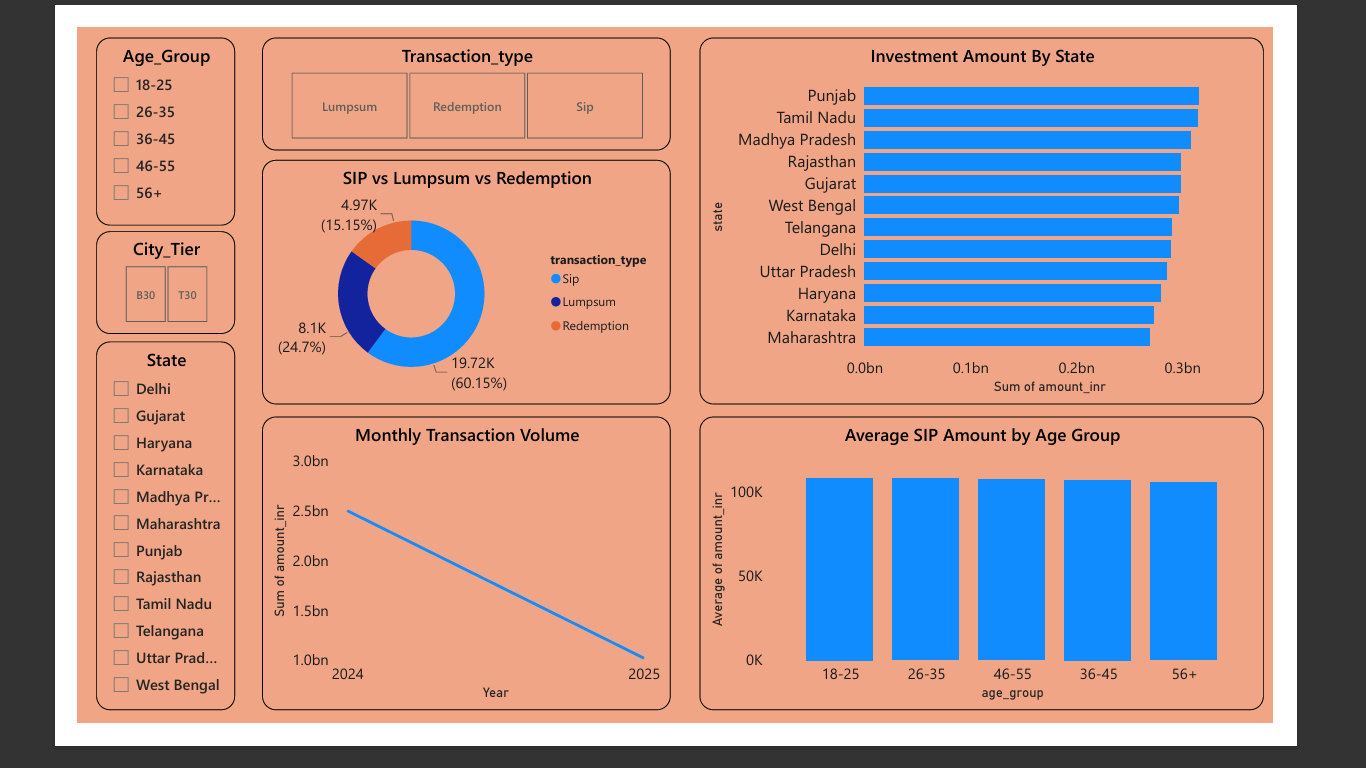

Layout of this report page (visuals, bound fields, positions):
{"tool":"powerbi","page":{"name":"Investor Analytics","canvas":[1290,750],"ordinal":2},"visuals":[{"type":"clusteredBarChart","title":"Investment Amount By State","fields":{"Category":["08_transactions_clean.state"],"Y":["Sum(08_transactions_clean.amount_inr)"]},"box":[671.4,11.4,608.6,395.7],"z":0},{"type":"donutChart","title":"SIP vs Lumpsum vs Redemption","fields":{"Category":["08_transactions_clean.transaction_type"],"Y":["CountNonNull(08_transactions_clean.transaction_type)"]},"box":[198.6,142.9,441.4,264.3],"z":1000},{"type":"clusteredColumnChart","title":"Average SIP Amount by Age Group","fields":{"Category":["08_transactions_clean.age_group"],"Y":["Avg(08_transactions_clean.amount_inr)"]},"box":[671.4,420,608.6,317.1],"z":2000},{"type":"lineChart","title":"Monthly Transaction Volume","fields":{"Category":["08_transactions_clean.transaction_date.Variation.Date Hierarchy.Year","08_transactions_clean.transaction_date.Variation.Date Hierarchy.Quarter","08_transactions_clean.transaction_date.Variation.Date Hierarchy.Month","08_transactions_clean.transaction_date.Variation.Date Hierarchy.Day"],"Y":["Sum(08_transactions_clean.amount_inr)"]},"box":[198.6,420,441.4,317.1],"z":3000},{"type":"slicer","title":"State","fields":{"Values":["08_transactions_clean.state"]},"box":[20,338.6,150,398.6],"z":4000},{"type":"slicer","title":"Age_Group","fields":{"Values":["08_transactions_clean.age_group"]},"box":[20,11.4,150,202.9],"z":5000},{"type":"slicer","title":"City_Tier","fields":{"Values":["08_transactions_clean.city_tier"]},"box":[20.5,219.5,150,111.8],"z":6000},{"type":"slicer","title":"Transaction_type","fields":{"Values":["08_transactions_clean.transaction_type"]},"box":[198.6,11.4,441.4,121.4],"z":7000}]}

Visuals, with their boxes on the page's 1290x750 design canvas (x1, y1, x2, y2). These are canvas units, not pixel positions in the 1366x768 screenshot, which may show the page scaled, cropped or inside an application window:
"Investment Amount By State" clusteredBarChart: {"left": 671, "top": 11, "right": 1280, "bottom": 407}
"SIP vs Lumpsum vs Redemption" donutChart: {"left": 199, "top": 143, "right": 640, "bottom": 407}
"Average SIP Amount by Age Group" clusteredColumnChart: {"left": 671, "top": 420, "right": 1280, "bottom": 737}
"Monthly Transaction Volume" lineChart: {"left": 199, "top": 420, "right": 640, "bottom": 737}
"State" slicer: {"left": 20, "top": 339, "right": 170, "bottom": 737}
"Age_Group" slicer: {"left": 20, "top": 11, "right": 170, "bottom": 214}
"City_Tier" slicer: {"left": 20, "top": 220, "right": 170, "bottom": 331}
"Transaction_type" slicer: {"left": 199, "top": 11, "right": 640, "bottom": 133}
